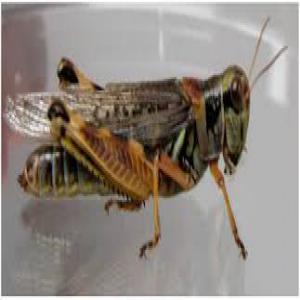locust: (14, 26, 272, 226)
